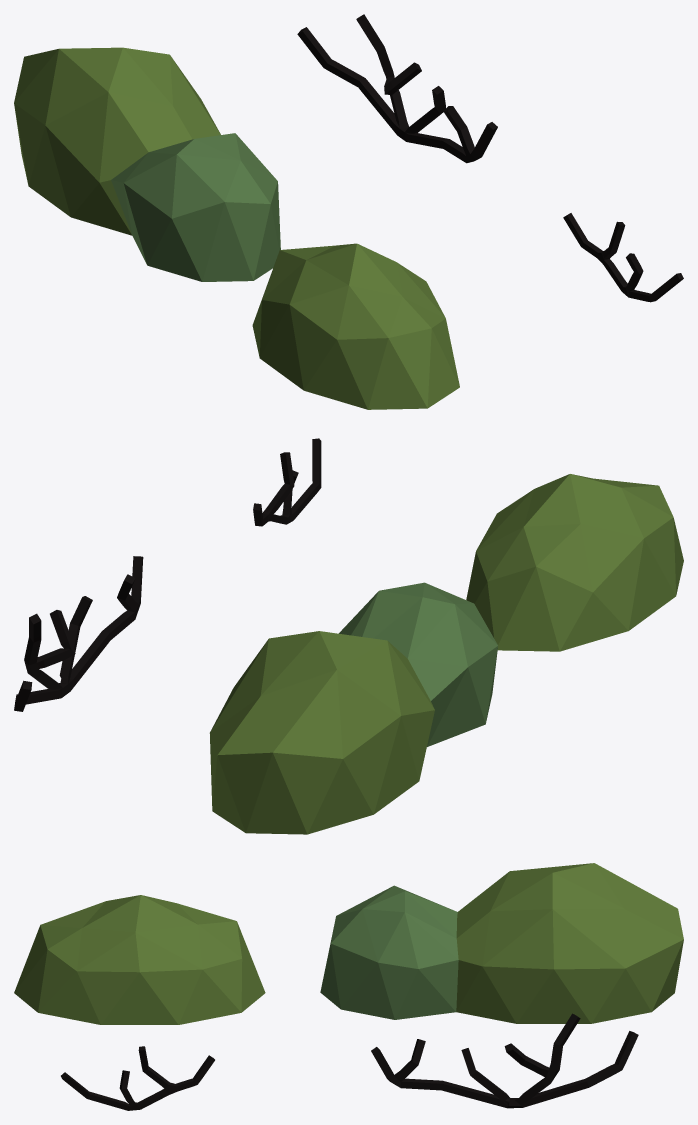
Rendered from modelo_mataatlantica_arbustos.fbx.
3 renders of one model, top to bottom at view 1: azimuth 30°, elevation 25°; view 2: azimuth 150°, elevation 25°; view 3: azimuth 270°, elevation 25°, orthographic. The views are drawn at different scales.
Parts seen in each view (by area): view 1: MataAtlantica Arbusto 2, MataAtlantica Arbusto 1, MataAtlantica Arbusto Morto 2, MataAtlantica Arbusto Morto 1; view 2: MataAtlantica Arbusto 2, MataAtlantica Arbusto 1, MataAtlantica Arbusto Morto 2, MataAtlantica Arbusto Morto 1; view 3: MataAtlantica Arbusto 2, MataAtlantica Arbusto 1, MataAtlantica Arbusto Morto 2, MataAtlantica Arbusto Morto 1.
Boxes of the visible parts, x1=… form: MataAtlantica Arbusto 2: x1=14, y1=47, x2=280, y2=281; MataAtlantica Arbusto 1: x1=252, y1=243, x2=459, y2=409; MataAtlantica Arbusto Morto 2: x1=297, y1=14, x2=497, y2=163; MataAtlantica Arbusto Morto 1: x1=563, y1=213, x2=683, y2=302; MataAtlantica Arbusto 2: x1=209, y1=582, x2=497, y2=834; MataAtlantica Arbusto 1: x1=466, y1=474, x2=683, y2=651; MataAtlantica Arbusto Morto 2: x1=14, y1=556, x2=143, y2=711; MataAtlantica Arbusto Morto 1: x1=253, y1=438, x2=321, y2=526; MataAtlantica Arbusto 2: x1=320, y1=863, x2=683, y2=1023; MataAtlantica Arbusto 1: x1=14, y1=895, x2=265, y2=1024; MataAtlantica Arbusto Morto 2: x1=371, y1=1013, x2=638, y2=1108; MataAtlantica Arbusto Morto 1: x1=61, y1=1046, x2=214, y2=1110.
Size of the model in its own units: 255 by 93.84 by 468.
